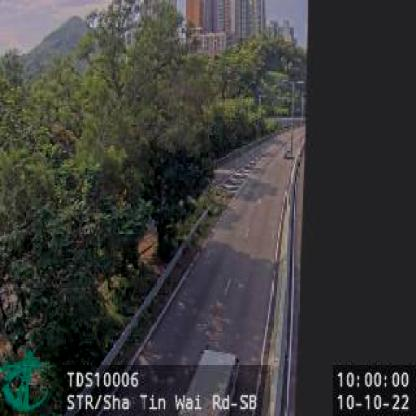Car: (182, 349, 239, 414)
